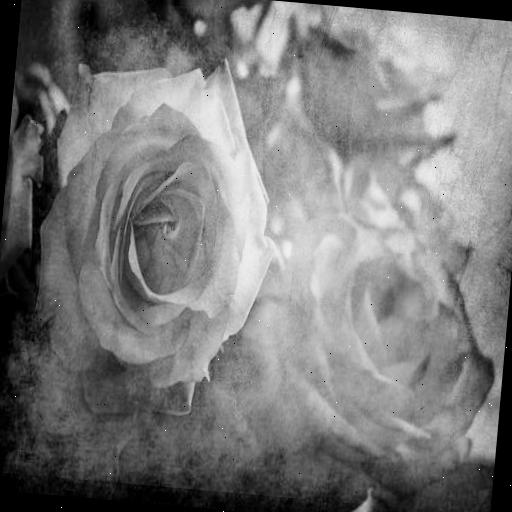rose: (24, 43, 289, 425), (223, 205, 504, 512)
